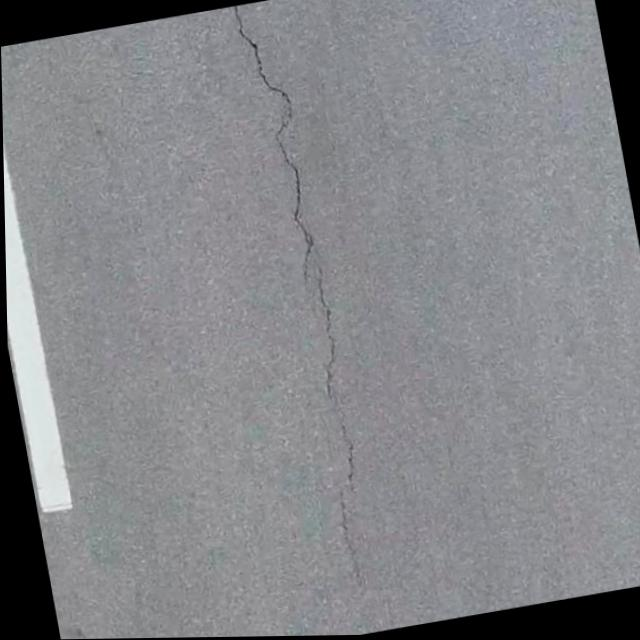Crack: (224, 0, 387, 557)
